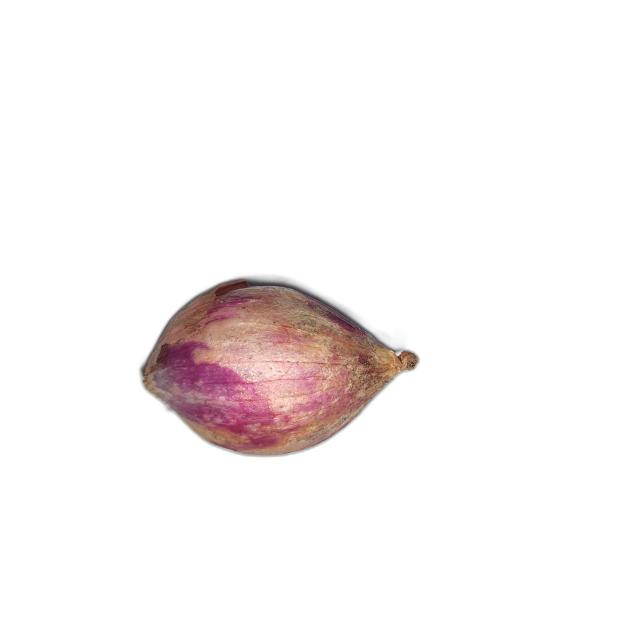onion: (138, 280, 420, 459)
